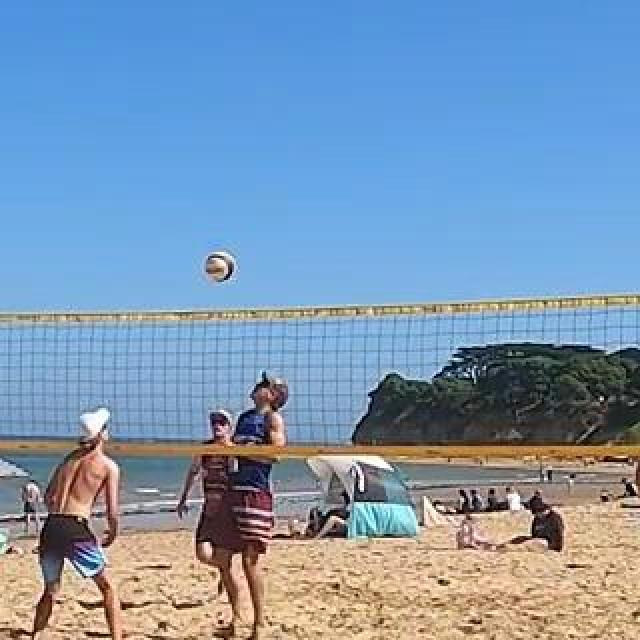volleyball: (206, 252, 238, 282)
